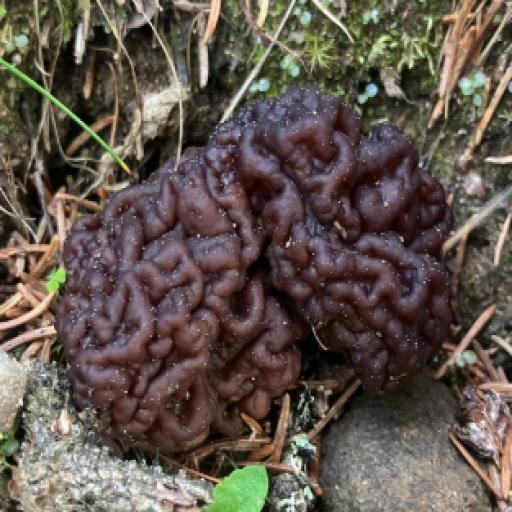mushroom: (49, 96, 460, 454)
